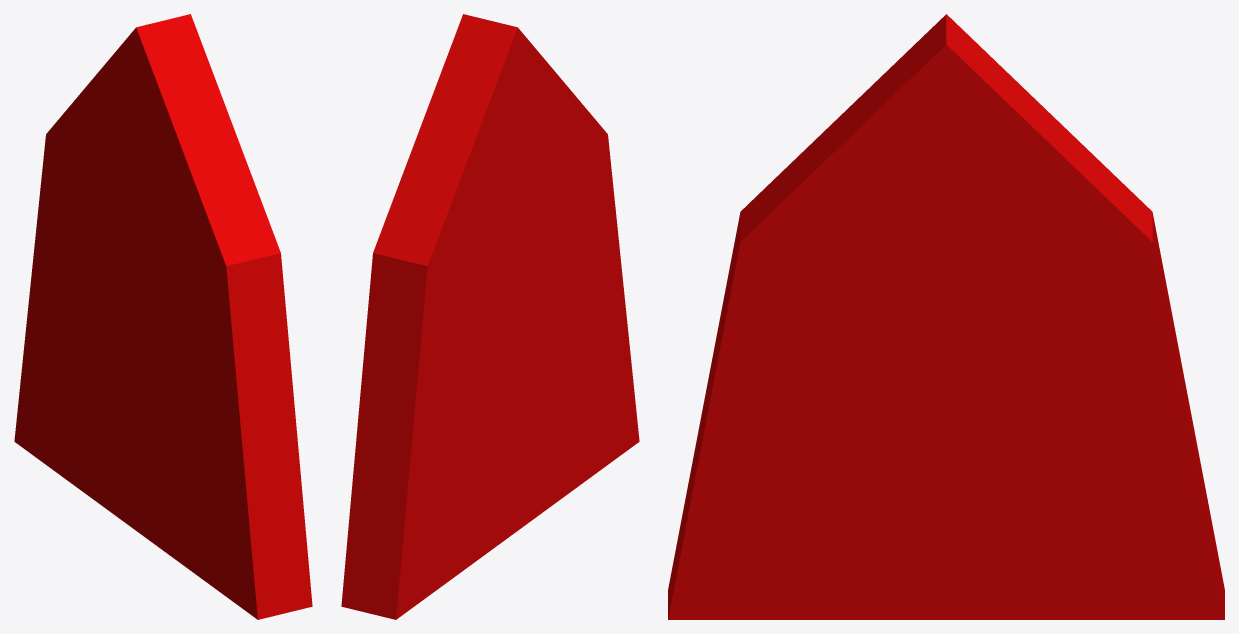
File: VaultCap2mCollider.fbx
The picture shows the model from 3 angles, left to right: view 1: azimuth 30°, elevation 25°; view 2: azimuth 150°, elevation 25°; view 3: azimuth 270°, elevation 25°; orthographic projection. The views are drawn at different scales.
Visible parts, largest first — view 1: VaultCap2mCollision; view 2: VaultCap2mCollision; view 3: VaultCap2mCollision.
Part boxes in pixels (<box>): VaultCap2mCollision: <box>14,14,312,619</box>; VaultCap2mCollision: <box>341,14,639,619</box>; VaultCap2mCollision: <box>668,14,1224,619</box>.
Bounding box in the file's own units: 40 × 352 × 309.
